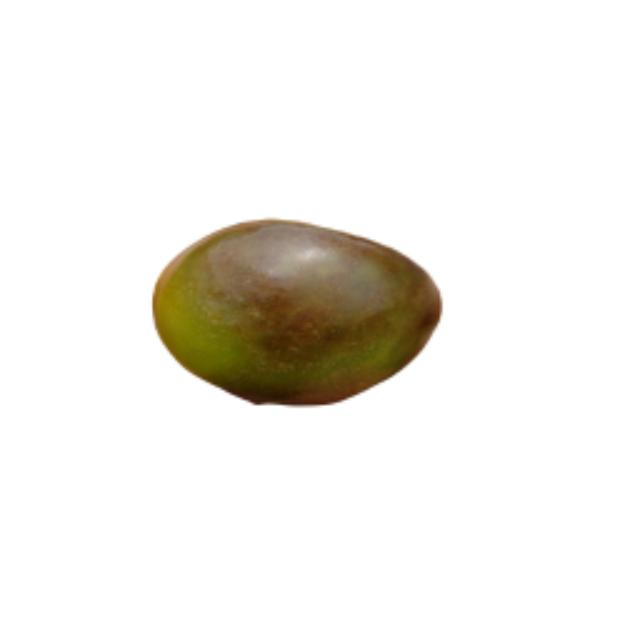defect: (144, 212, 447, 410)
